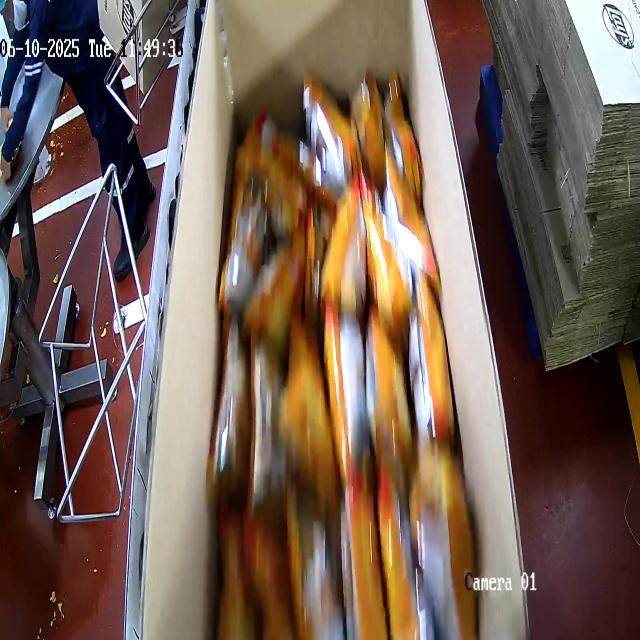FRENCH_CHEESE: (218, 80, 452, 640)
